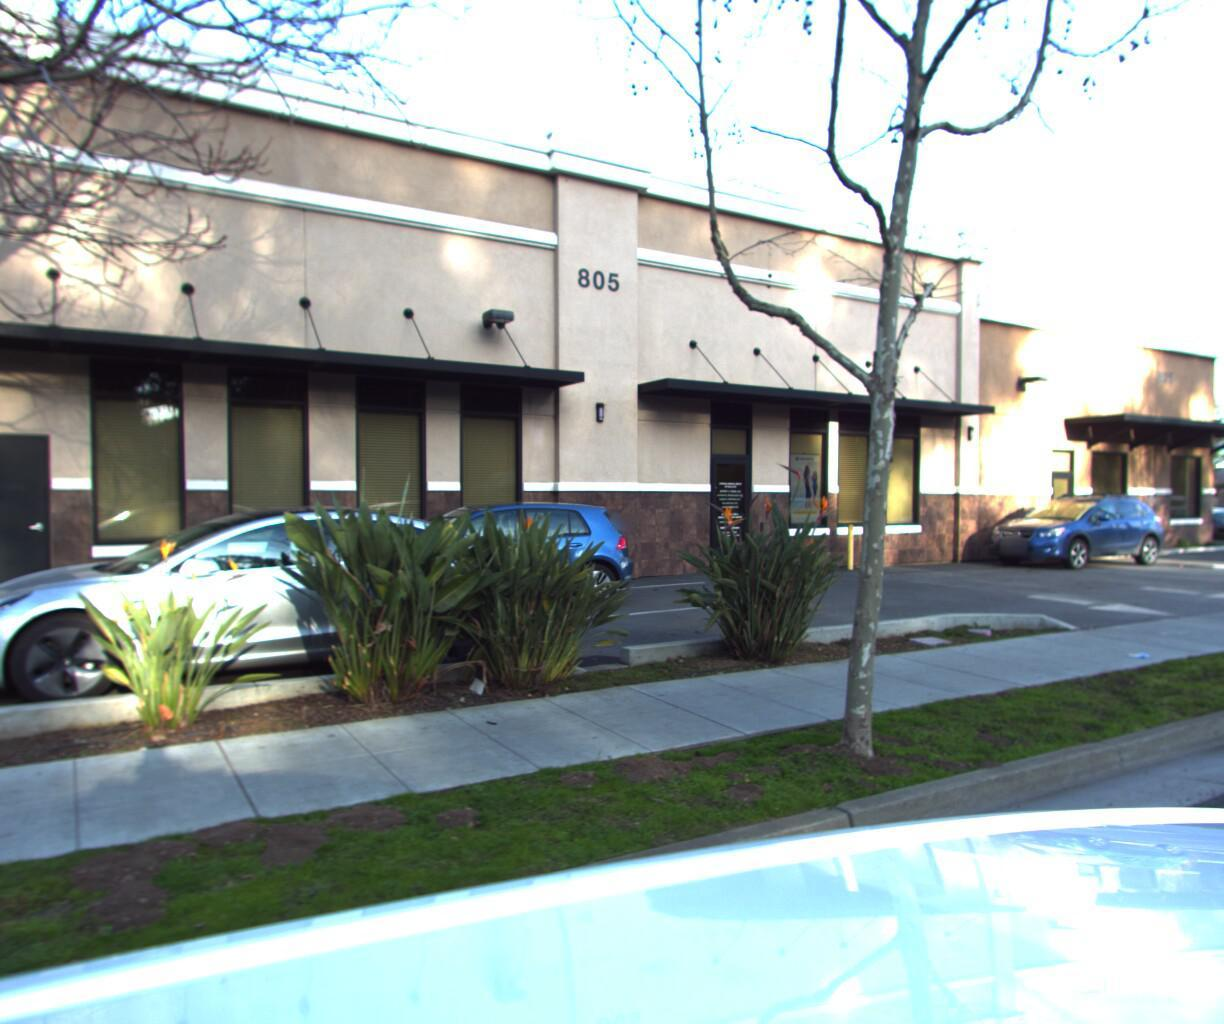car: (0, 499, 547, 731), (260, 495, 607, 633), (979, 486, 1176, 567), (1158, 498, 1224, 540), (1194, 504, 1224, 533)
